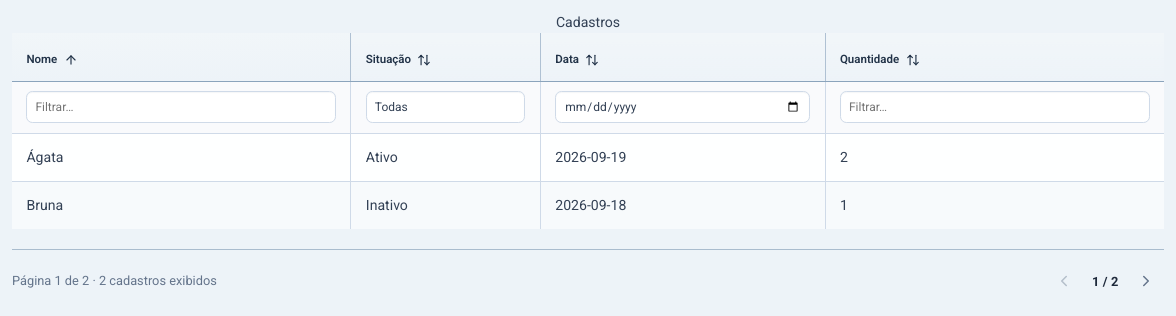
Test: filtros e ordenação por coluna › filtra em todas as páginas, ignora acentos e combina colunas antes da paginação
The width and height of the screenshot is (1176, 316).
Click the button named "Próxima página". click: (1146, 281)
box: left=1128, top=263, right=1164, bottom=299
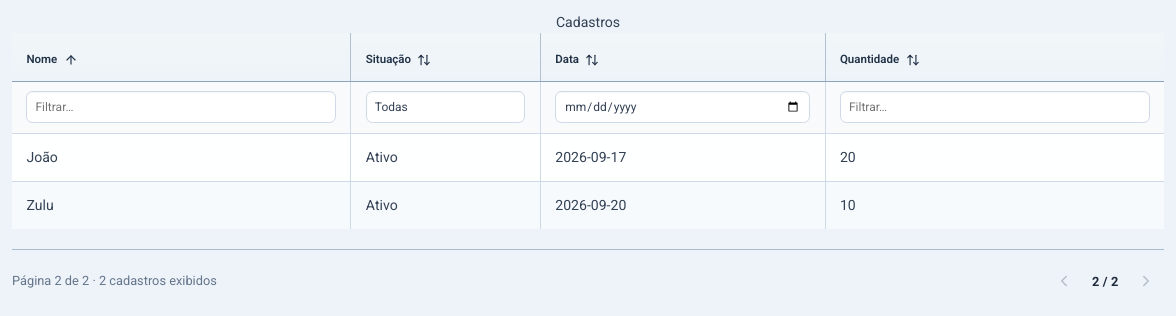
Result: the cell "Zulu" is shown at left=12, top=182, right=351, bottom=229
Type "AGATA" into the search field named "Filtrar Nome". click: (181, 107)
box: left=26, top=91, right=336, bottom=123
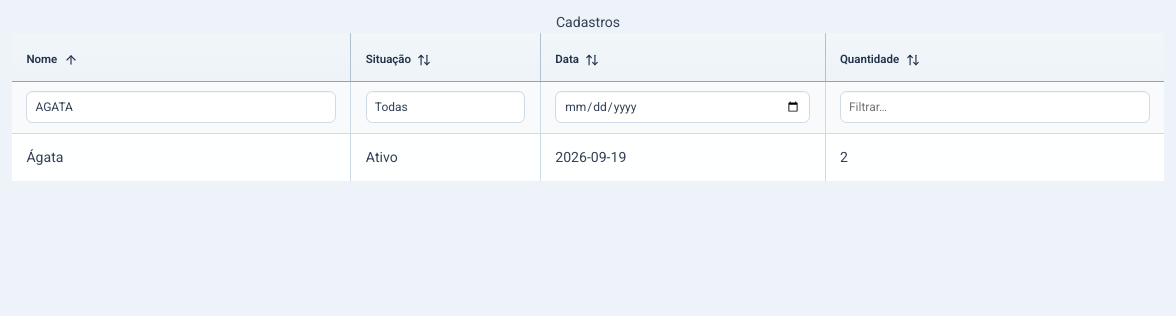
Result: the cell "Ágata" is shown at left=12, top=134, right=351, bottom=181
Select "Inativo" in the dropdown named "Filtrar Situação". click: (446, 107)
box: left=366, top=91, right=525, bottom=123
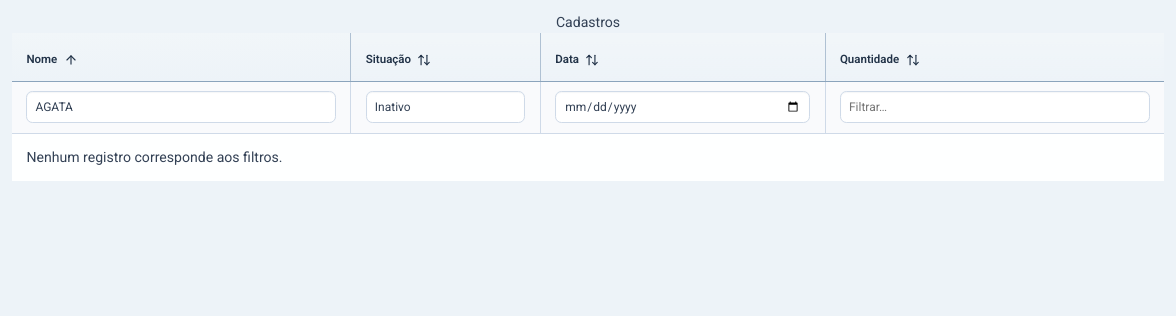
Result: the message shows "Nenhum registro corresponde" at left=26, top=149, right=283, bottom=165
Clear the search field named "Filtrar Nome". click: (181, 107)
box: left=26, top=91, right=336, bottom=123
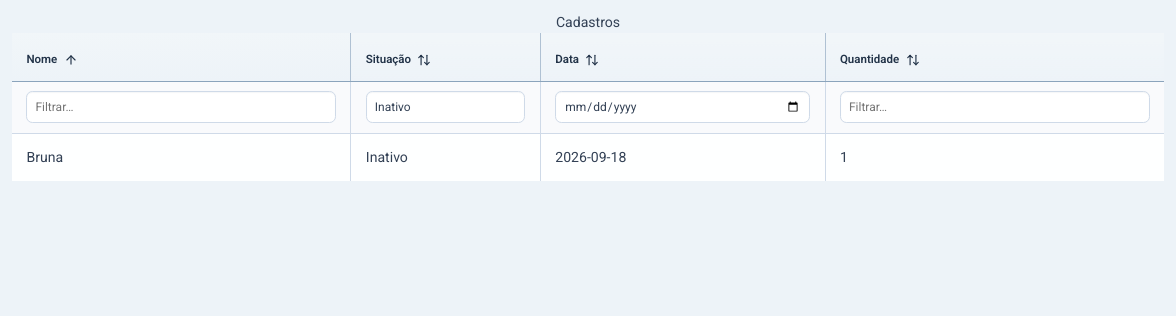
Result: the cell "Bruna" is shown at left=12, top=134, right=351, bottom=181
